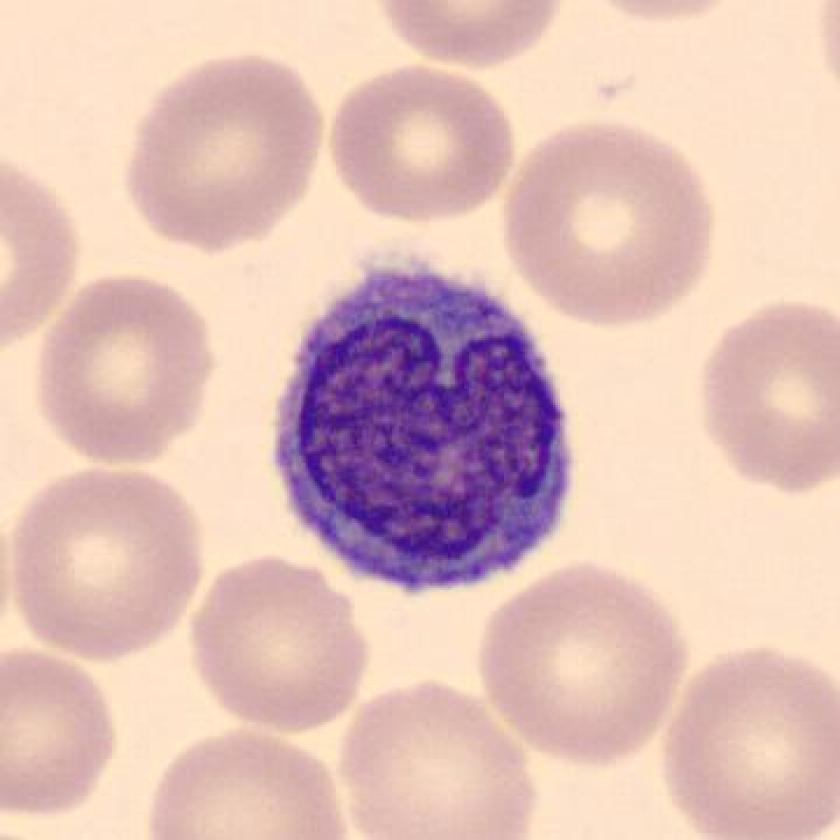monocyte: (253, 228, 596, 617)
